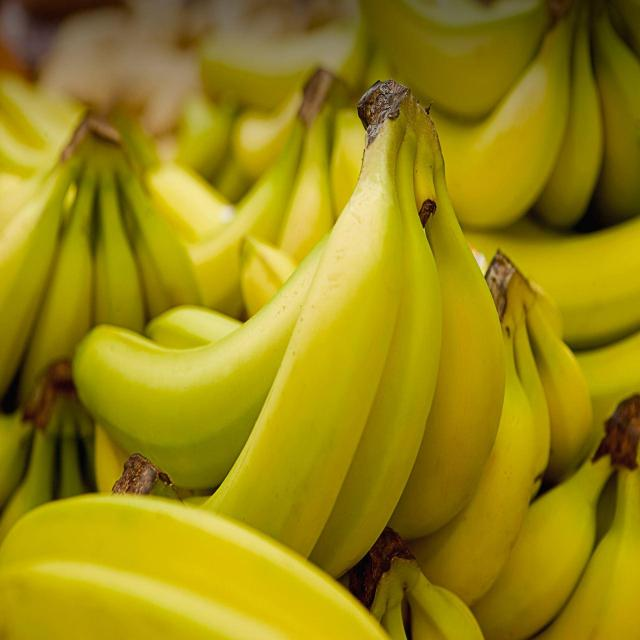banana: (74, 78, 516, 592), (350, 246, 597, 608), (0, 81, 231, 409)
